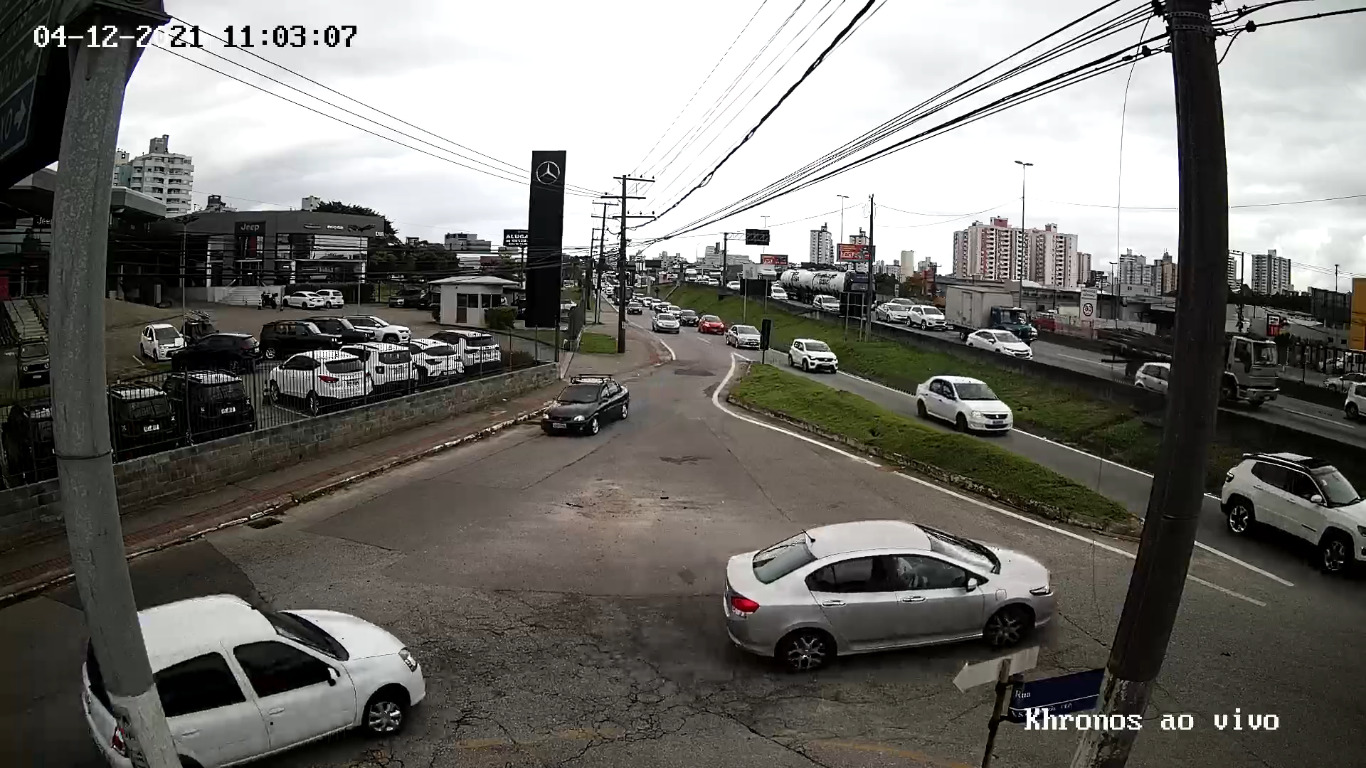car: (78, 591, 427, 768), (724, 521, 1061, 670), (1218, 451, 1366, 572), (914, 374, 1015, 436), (541, 374, 631, 438), (787, 337, 840, 375)
